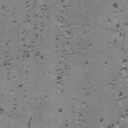oxide scale of temperature system: (32, 3, 71, 34), (3, 39, 40, 66), (113, 32, 128, 96), (27, 116, 42, 128), (100, 118, 114, 128), (112, 2, 118, 8), (56, 75, 62, 80), (0, 108, 4, 114), (18, 84, 23, 88), (58, 108, 62, 112), (78, 112, 82, 116)
